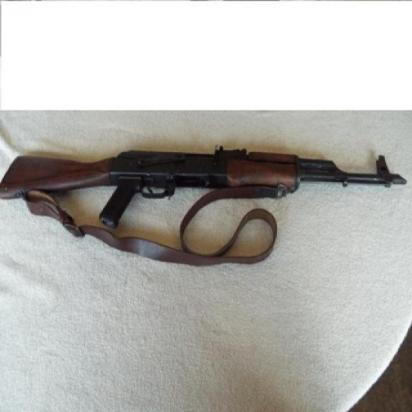Gun: (0, 128, 411, 260)
